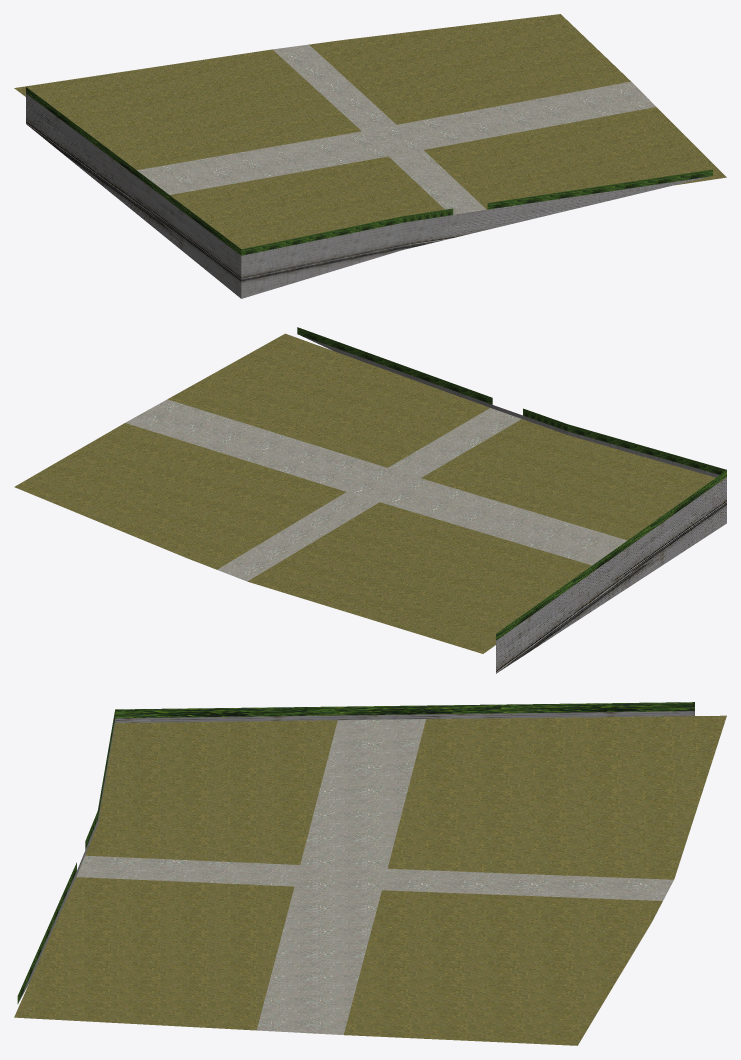
Rendered from loddlawn.obj.
3 renders of one model, top to bottom at view 1: azimuth 30°, elevation 25°; view 2: azimuth 150°, elevation 25°; view 3: azimuth 270°, elevation 25°, orthographic. The views are drawn at different scales.
Visible parts, largest first — view 1: LODdLAwn; view 2: LODdLAwn; view 3: LODdLAwn.
Part boxes in pixels (x1,y1,x2,y2): LODdLAwn: (14,14,726,298); LODdLAwn: (14,327,726,673); LODdLAwn: (14,702,726,1045).
Size of the model in its own units: 78.48 by 8.38 by 73.19.
Materials: 4 (4 with a texture image).
